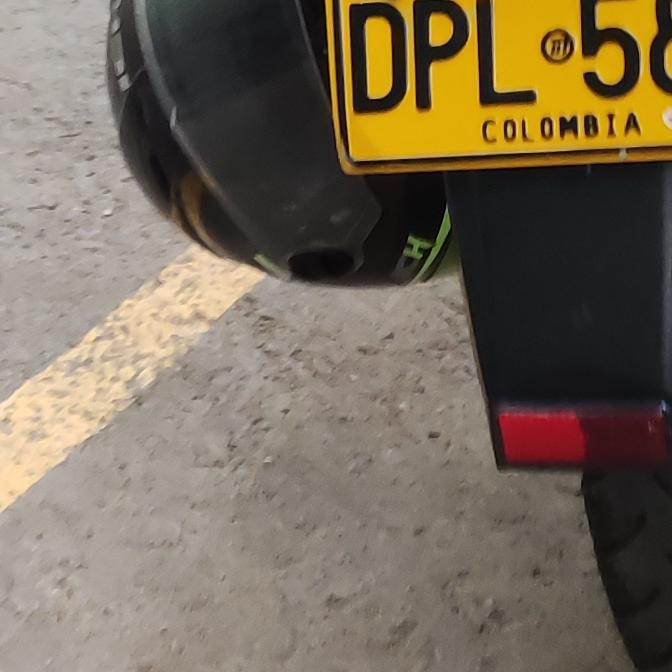plates: (321, 0, 672, 169)
